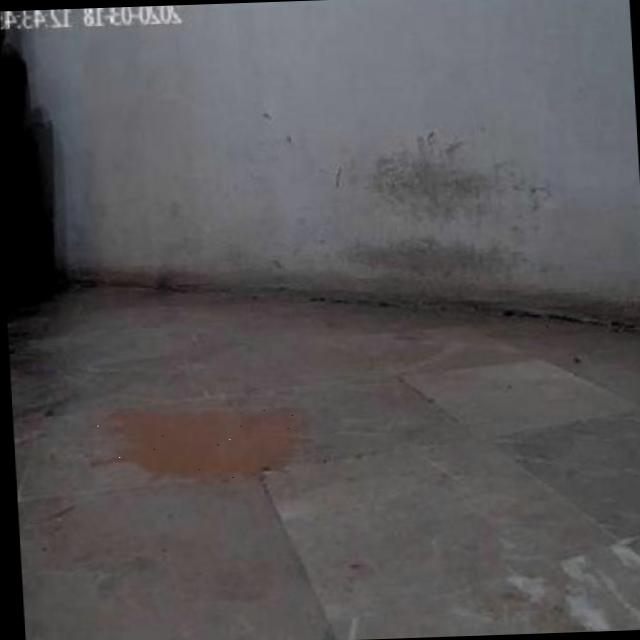spillage: (93, 410, 299, 480)
